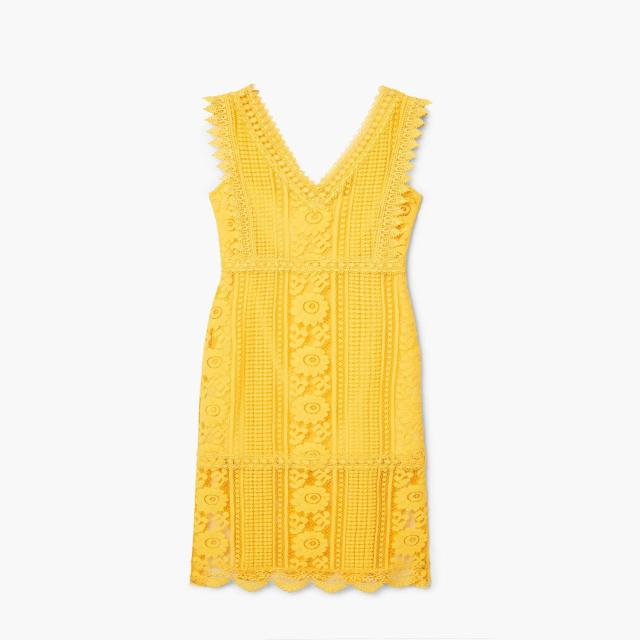Dress: (180, 84, 443, 604)
